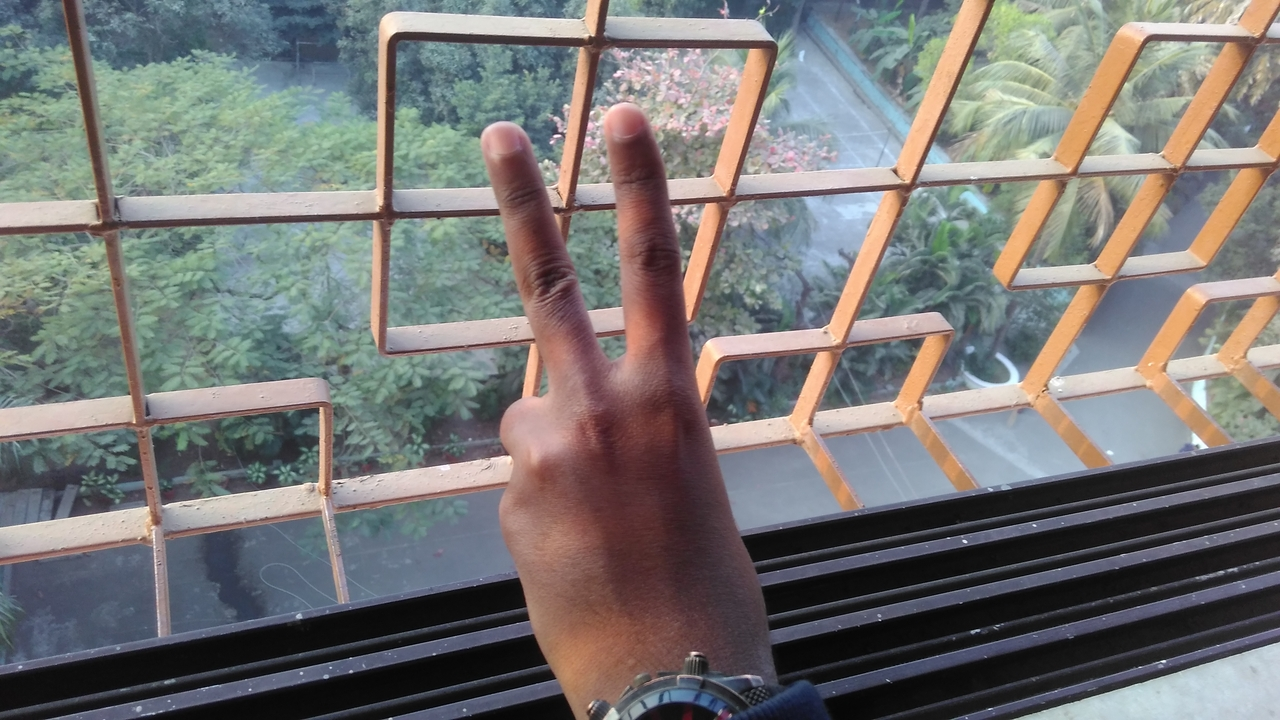fingertip: (474, 116, 532, 174), (598, 100, 658, 156)
